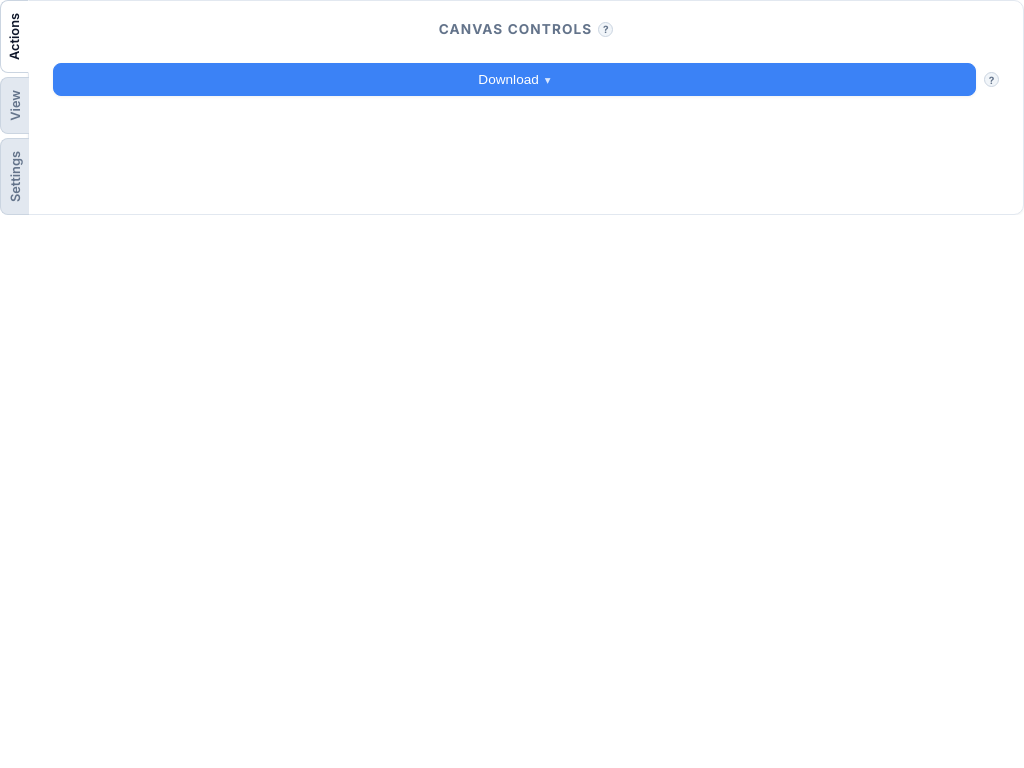
Test: CanvasControls help icons › shows a help icon for the practice/test mode toggle without flipping it
Step 1. Click the button "Settings" → (14, 176), box x1=0 y1=138 x2=29 y2=215
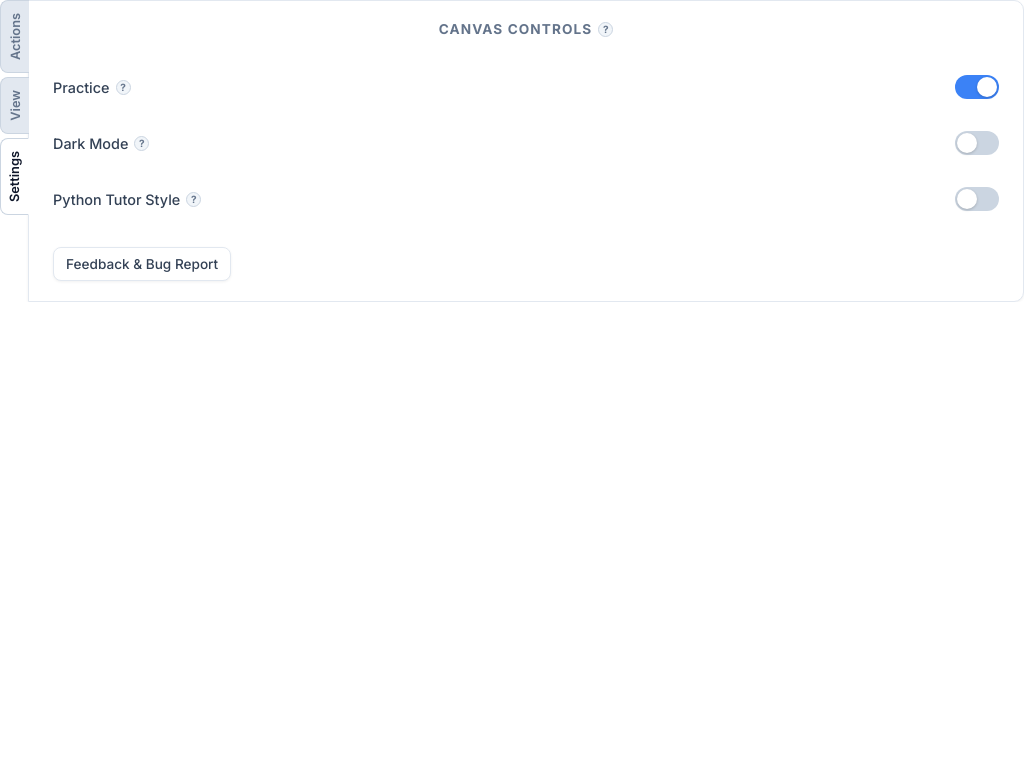
Step 2. Click the button named "Help: Practice / Test Mode" → (123, 87), box x1=116 y1=80 x2=130 y2=94
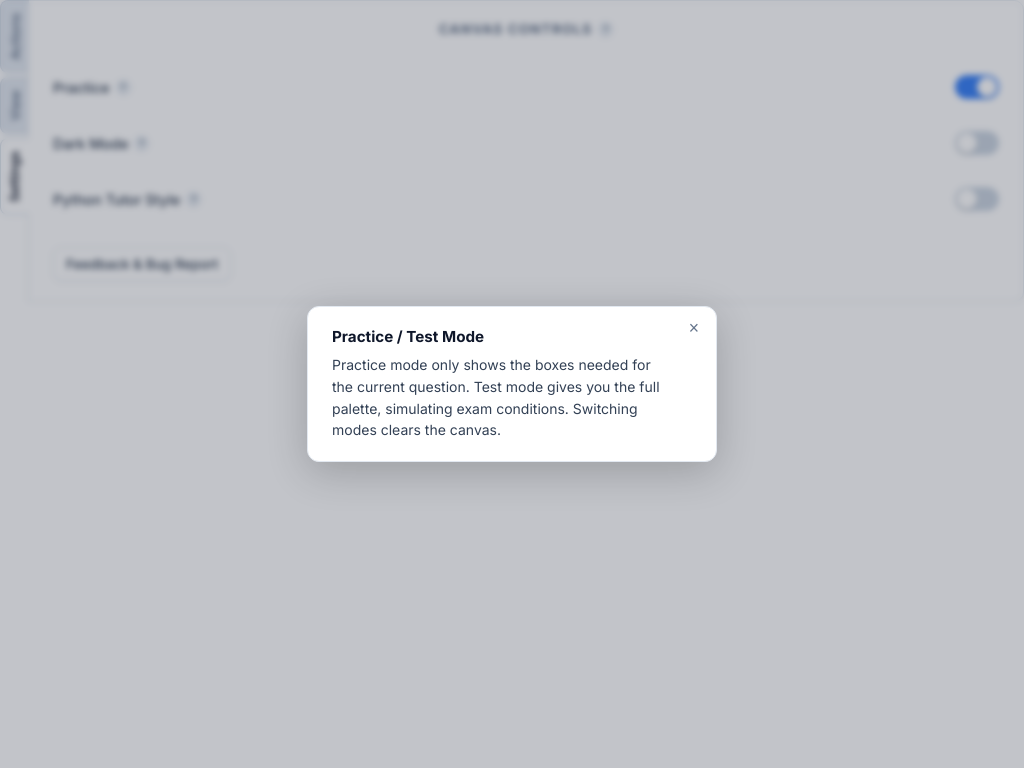
Expected: the dialog is shown, x1=307 y1=306 x2=717 y2=462
